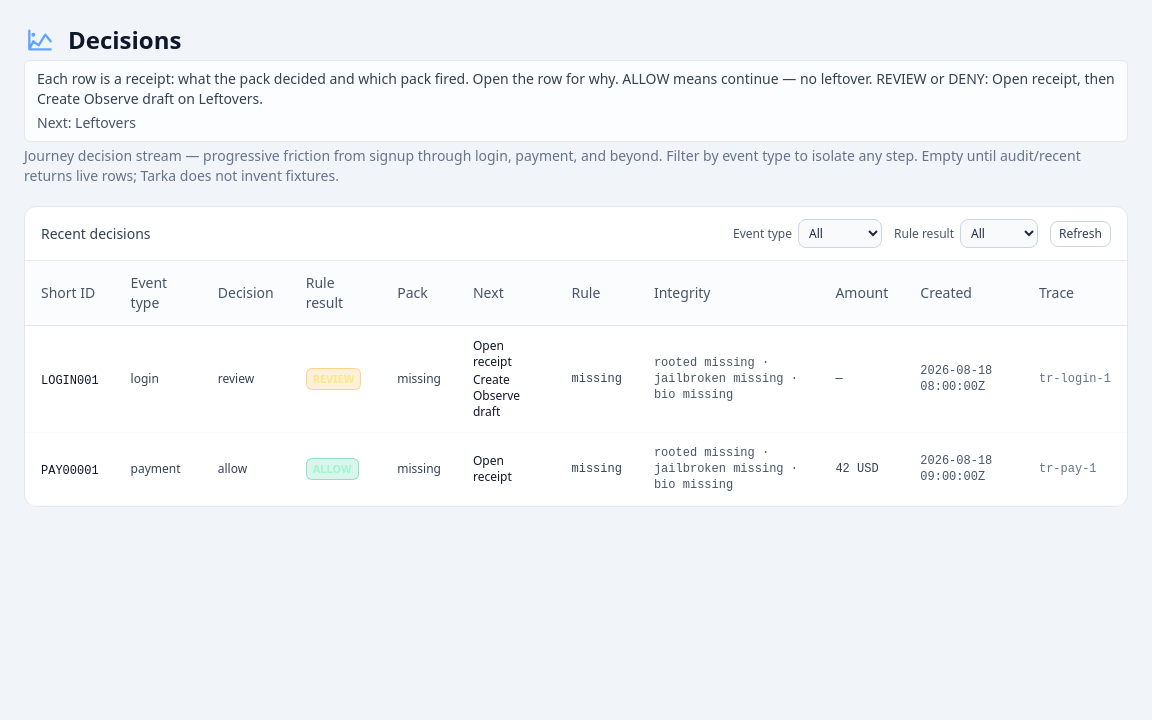
Scenario: Decisions stream › filters by rule result
Select "ALLOW" in the dropdown with test id "filter-rule-result" at (999, 234), box [960, 219, 1038, 248]
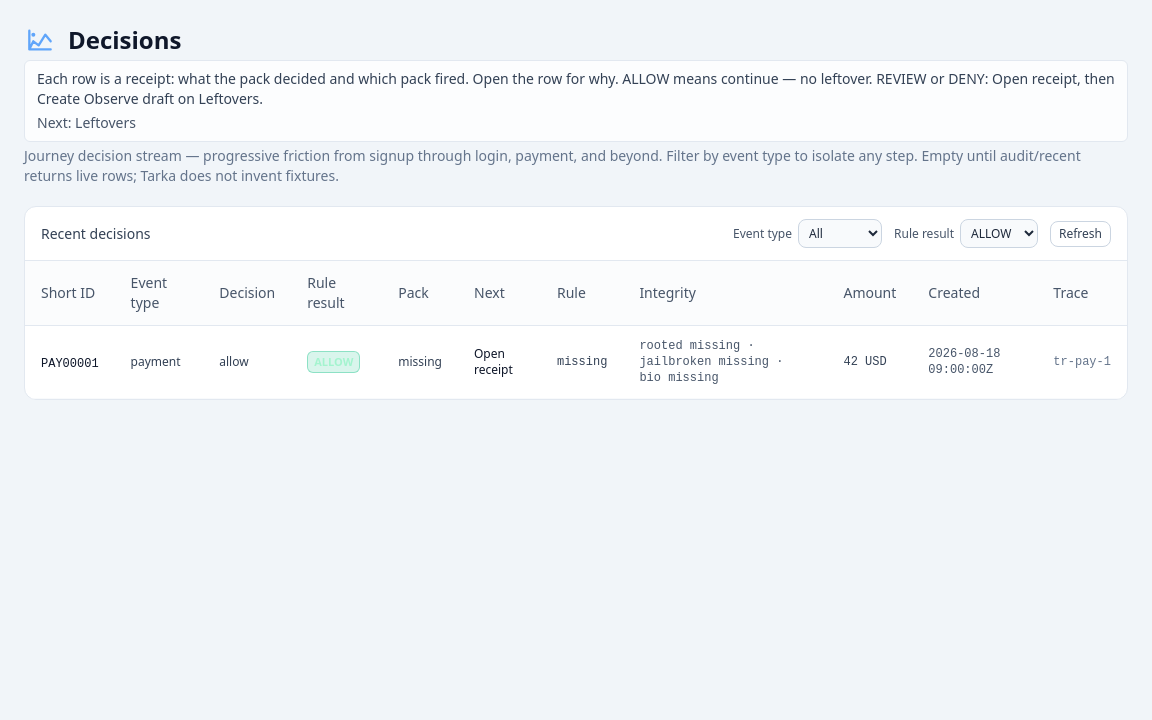
Expected: the link with test id "decisions-row-tr-pay-1" is shown, [25, 326, 1127, 398]
Expected: the link with test id "decisions-row-tr-login-1" is gone
